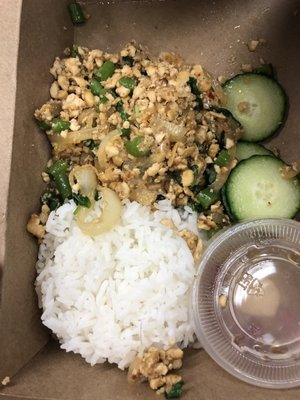curry: (41, 158, 91, 211)
sushi: (190, 219, 300, 389)
